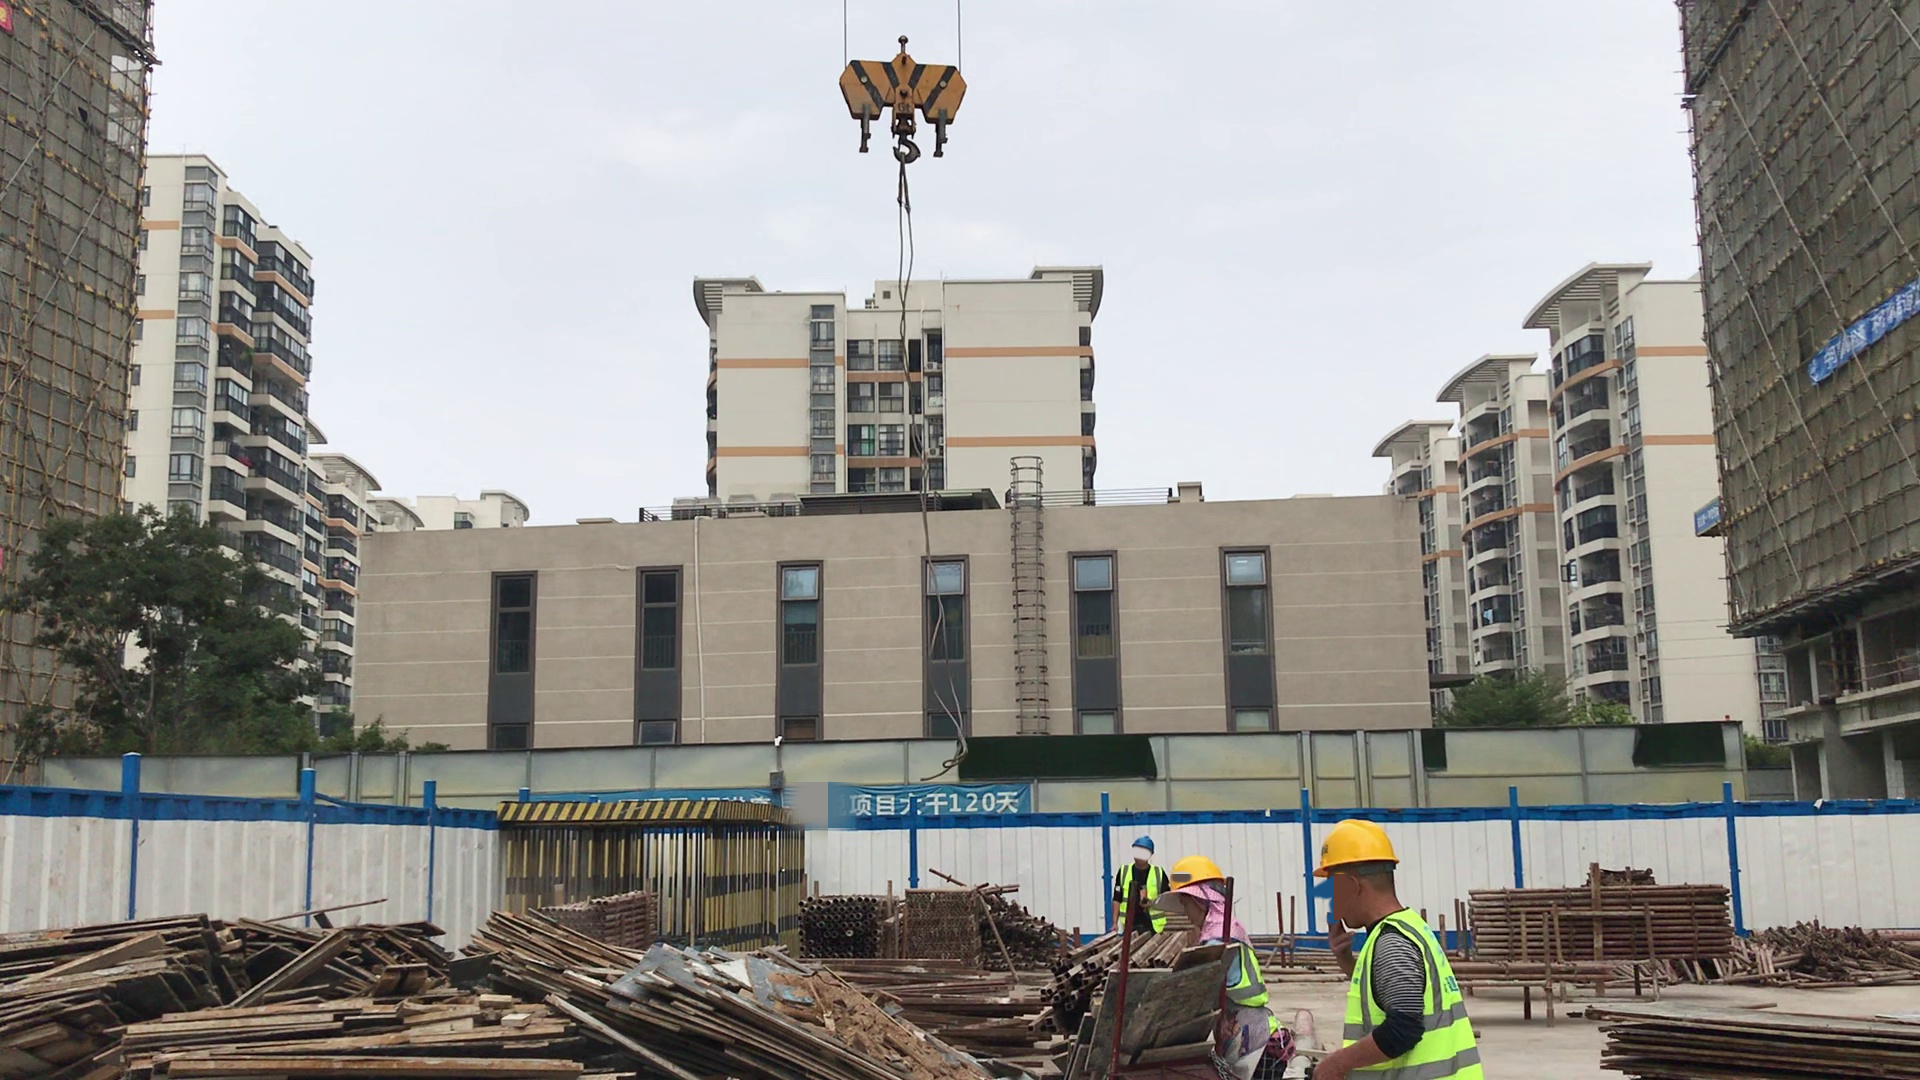helmet: (1323, 808, 1403, 874), (1174, 851, 1220, 884), (1133, 837, 1160, 861)
hook: (827, 30, 983, 150)
person: (1319, 792, 1483, 1080), (1173, 849, 1272, 1012), (1119, 830, 1163, 944)
scaffold: (1470, 888, 1742, 963), (897, 877, 998, 985)
slogan: (799, 762, 1023, 825)
vest: (1344, 927, 1482, 1080), (1229, 932, 1274, 1004), (1123, 865, 1160, 922)
